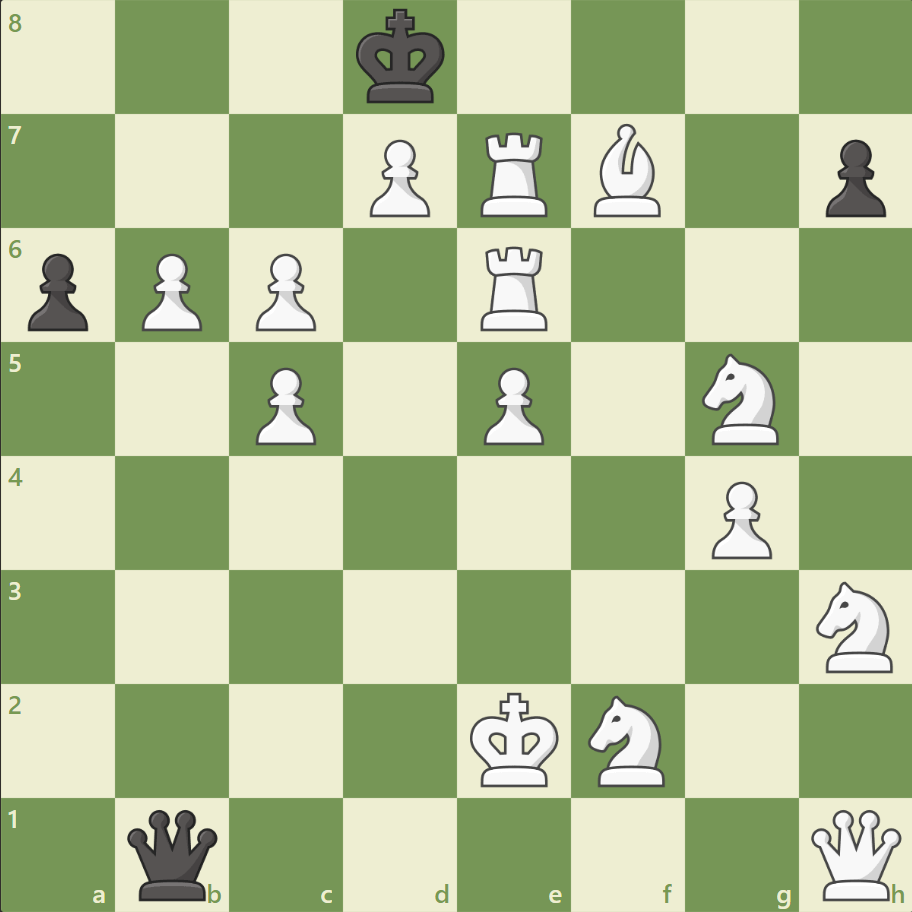B: (585, 120, 669, 222)
K: (465, 685, 565, 793)
N: (579, 688, 676, 791), (692, 348, 789, 450), (806, 575, 903, 677)
P: (133, 246, 208, 337), (247, 246, 322, 337), (247, 359, 322, 450), (474, 359, 549, 450), (701, 473, 776, 564), (361, 132, 435, 223)
Q: (805, 804, 904, 903)
R: (473, 125, 556, 222), (473, 239, 556, 336)
k: (351, 4, 451, 112)
p: (20, 246, 95, 337), (815, 132, 889, 223)
q: (124, 804, 223, 903)
